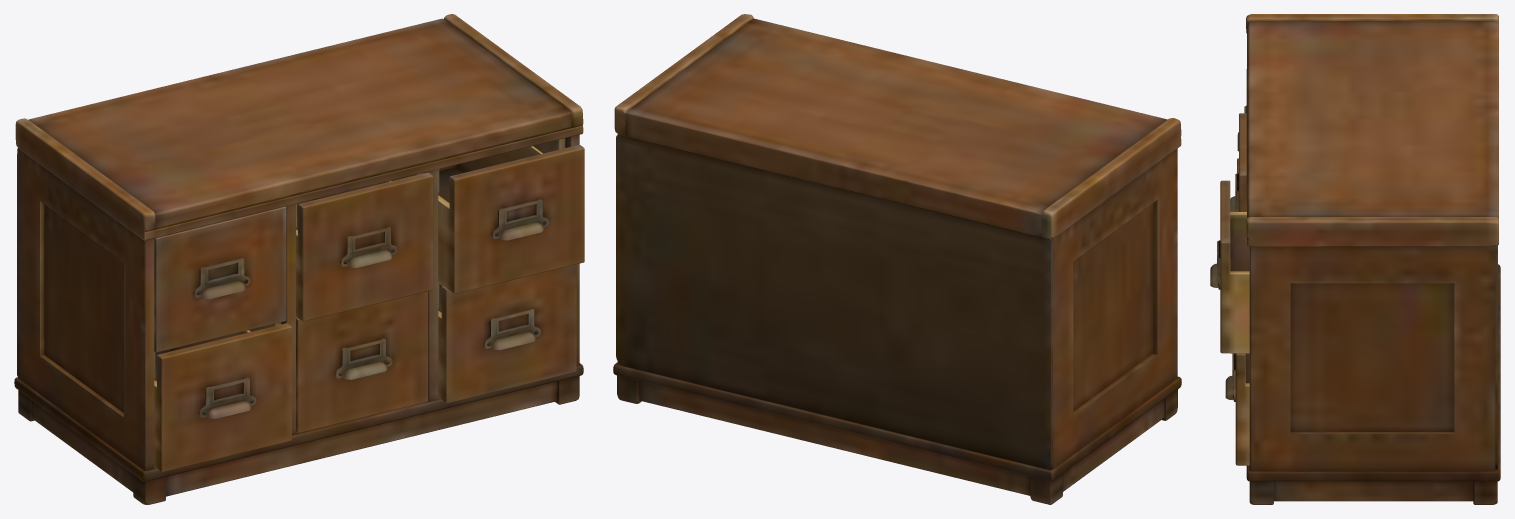
The model's file is dresser-vintage.lite.2a488c8c.glb.
3 views of the same model, side by side, from view 1: azimuth 30°, elevation 25°; view 2: azimuth 150°, elevation 25°; view 3: azimuth 270°, elevation 25° (orthographic). The views are drawn at different scales.
Visible parts, largest first — view 1: model; view 2: model; view 3: model.
Boxes of the visible parts, x1,y1,x2,y2 form: model: (14, 14, 584, 504); model: (613, 14, 1181, 504); model: (1210, 14, 1500, 504).
Size of the model in its own units: 1.72 by 1.09 by 1.01.
Materials: 1 (1 with a texture image).
